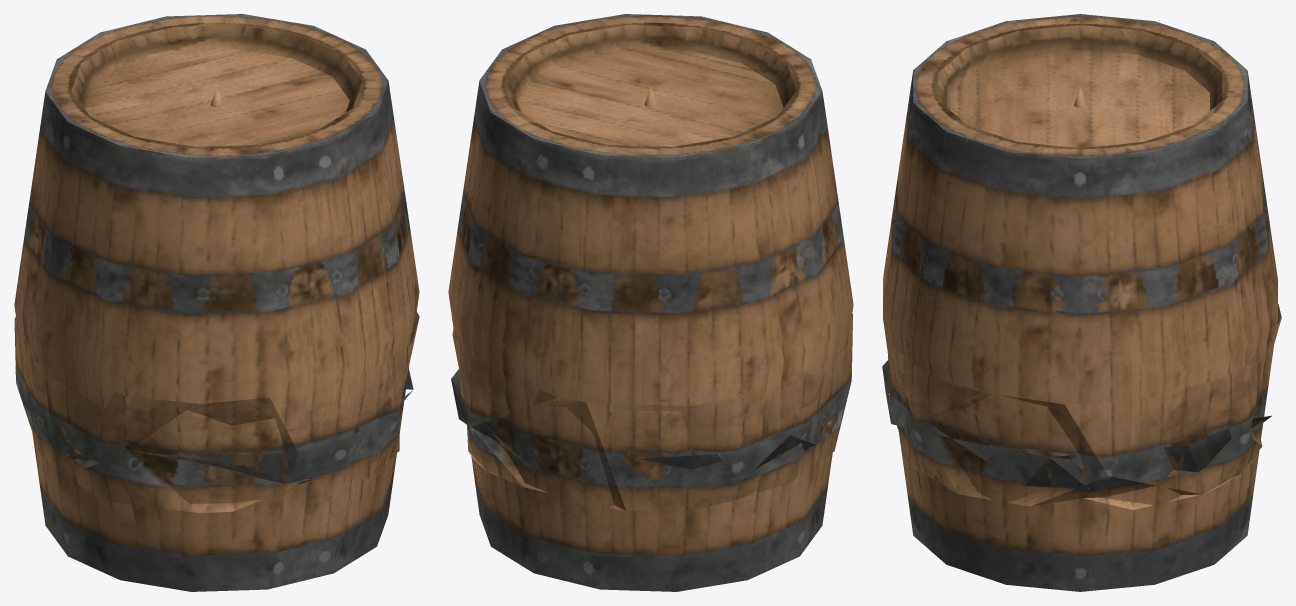
File: barrel_lod0.glb
3 views of the same model, side by side, from view 1: azimuth 30°, elevation 25°; view 2: azimuth 150°, elevation 25°; view 3: azimuth 270°, elevation 25° (orthographic).
Visible parts, largest first — view 1: low; view 2: low; view 3: low.
Part boxes in pixels (bbox=[...]): low: bbox=[14, 14, 419, 591]; low: bbox=[448, 14, 853, 591]; low: bbox=[882, 14, 1281, 591].
Size of the model in its own units: 0.9032 by 1.07 by 0.8906.
Materials: 1 (1 with a texture image).
